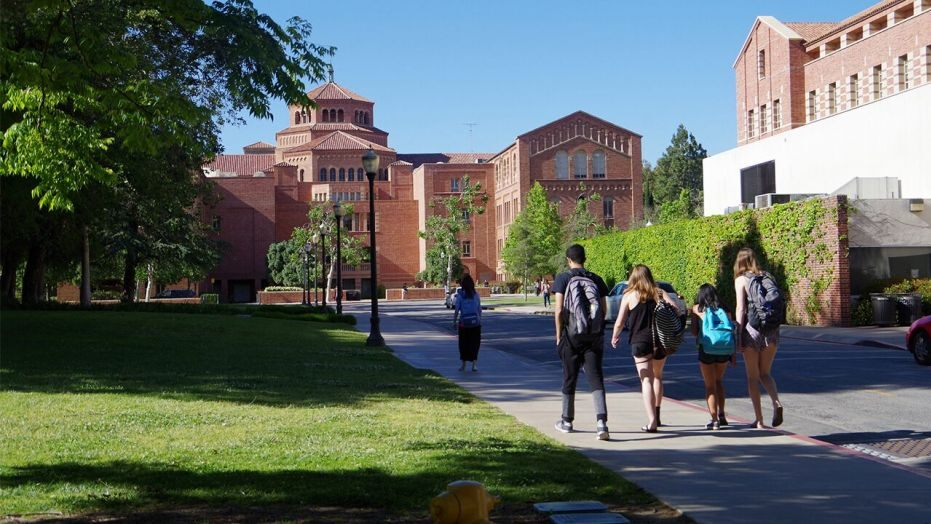Person: (612, 262, 687, 436), (551, 243, 610, 440), (735, 245, 791, 433), (688, 282, 738, 434), (452, 273, 484, 373)
